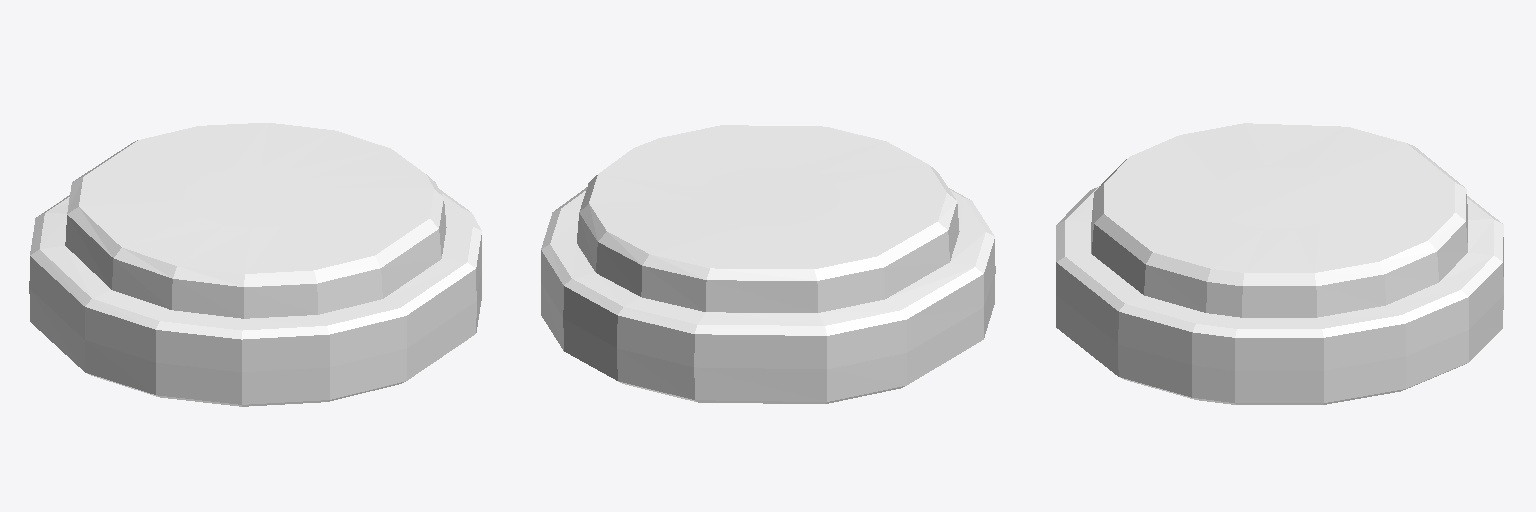
File: smoke_detector.obj
3 renders of one model, left to right at view 1: azimuth 30°, elevation 25°; view 2: azimuth 150°, elevation 25°; view 3: azimuth 270°, elevation 25°, orthographic.
Parts seen in each view (by area): view 1: smoke_detector; view 2: smoke_detector; view 3: smoke_detector.
Part boxes in pixels (left/top/right/bottom): smoke_detector: left=29, top=123, right=481, bottom=406; smoke_detector: left=541, top=125, right=995, bottom=403; smoke_detector: left=1056, top=123, right=1503, bottom=404.
Size of the model in its own units: 115 by 33.76 by 115.